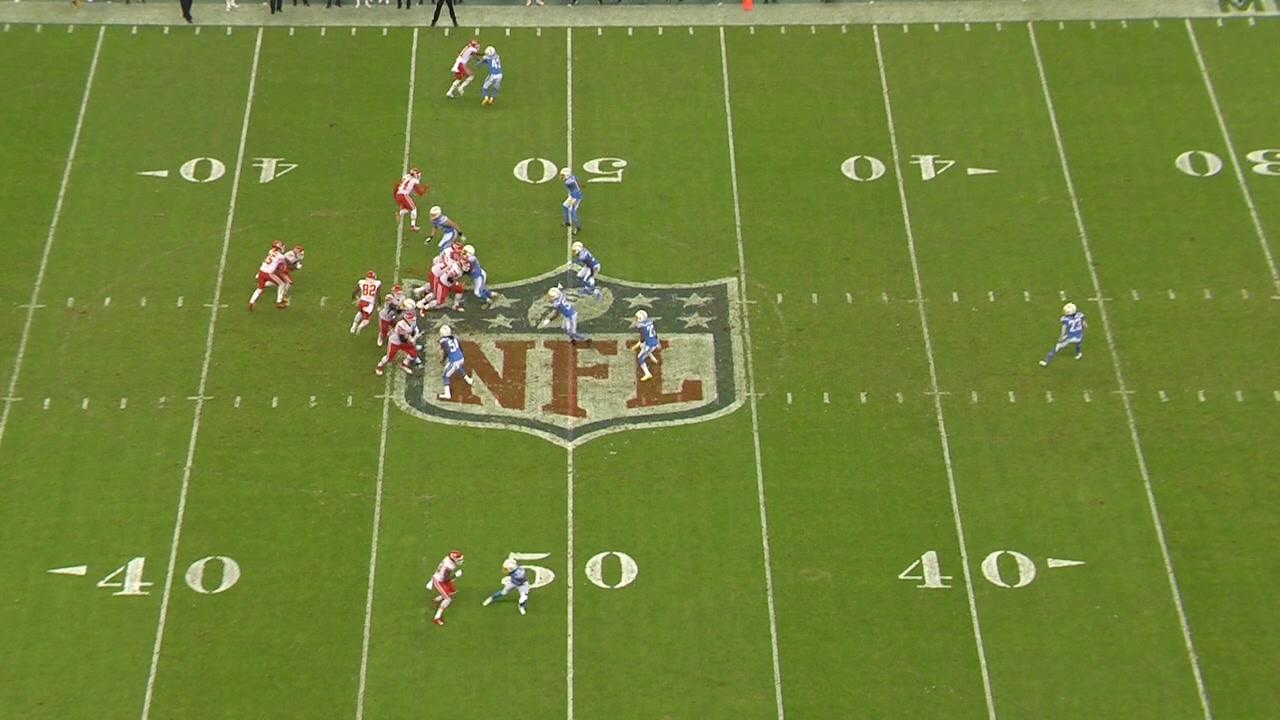player: (539, 281, 596, 348), (1035, 302, 1090, 368), (417, 255, 473, 319), (423, 548, 467, 628), (255, 244, 307, 308), (411, 241, 468, 299), (483, 557, 535, 619), (414, 248, 463, 310), (375, 312, 420, 379), (435, 323, 473, 401), (442, 39, 488, 101), (248, 240, 287, 313), (390, 166, 431, 232), (390, 297, 426, 370), (349, 267, 385, 339), (461, 244, 499, 310), (630, 306, 663, 381), (474, 42, 505, 114), (570, 240, 604, 305), (375, 285, 408, 347), (423, 204, 467, 250), (557, 167, 587, 234)
